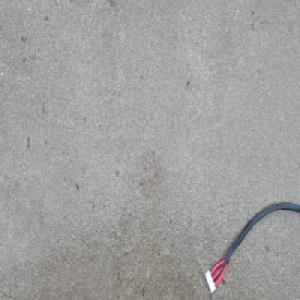Wire: (203, 201, 300, 295)
